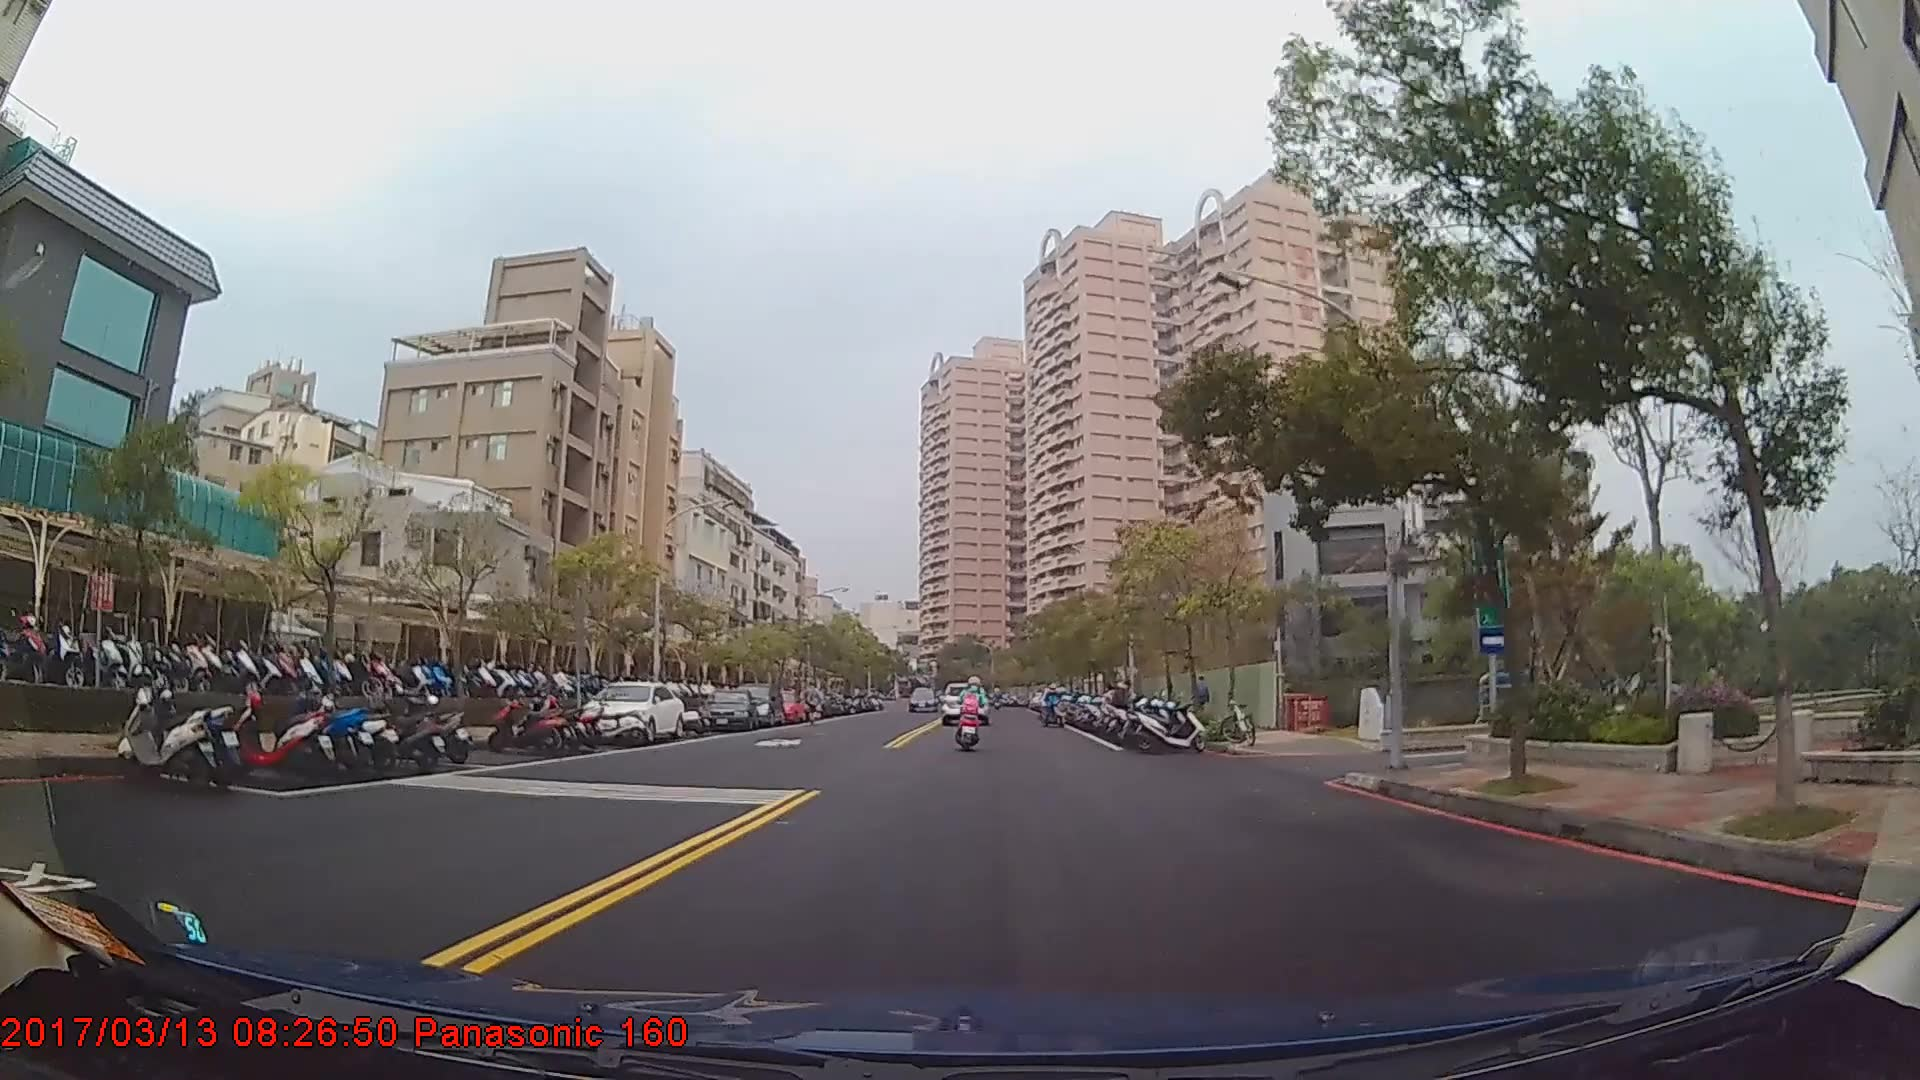pedestrian: (1191, 677, 1212, 731)
rider: (956, 680, 988, 752), (1041, 682, 1066, 725)
vehicle: (575, 681, 684, 744), (729, 679, 786, 726), (697, 689, 757, 732), (942, 681, 990, 727), (908, 686, 935, 711)
